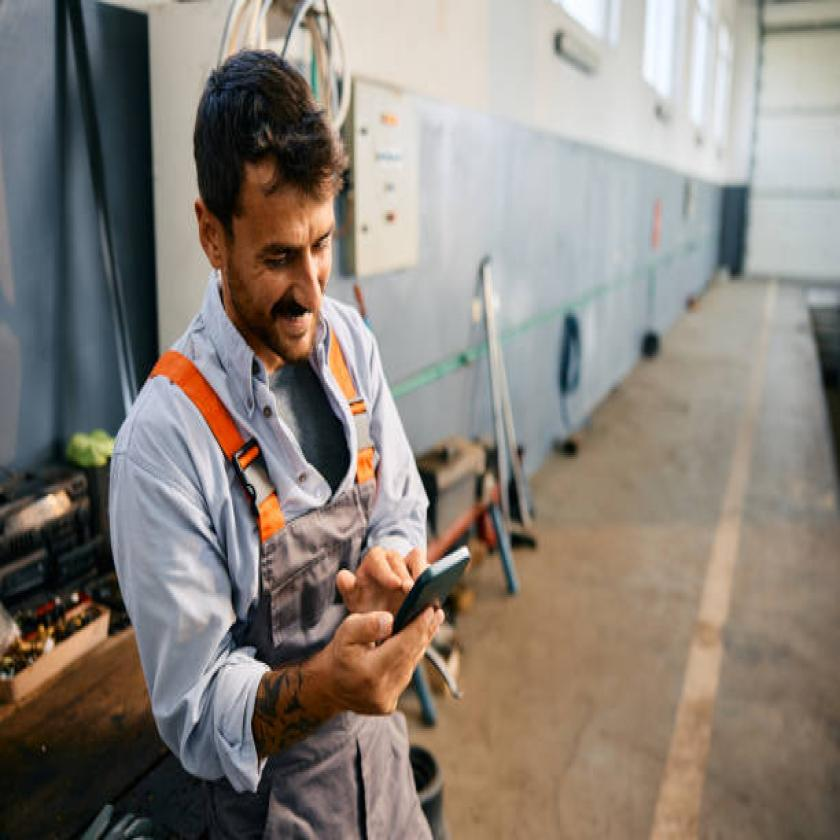Sin_casco: (189, 49, 344, 391)
